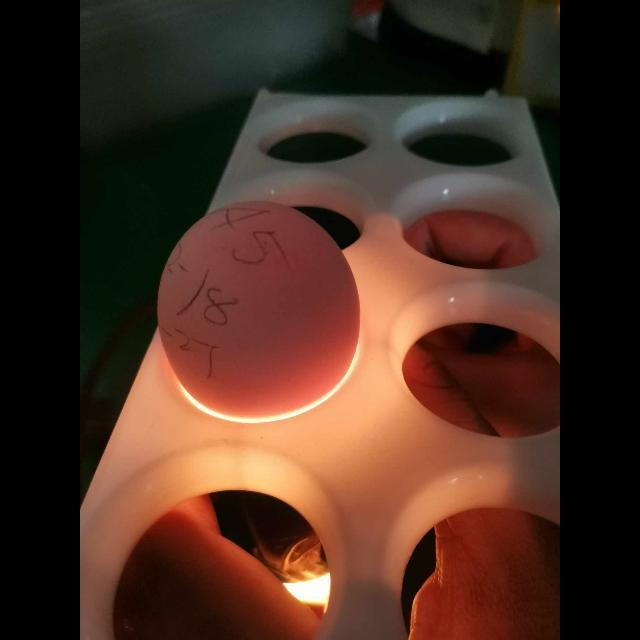Fertile: (157, 198, 355, 412)
